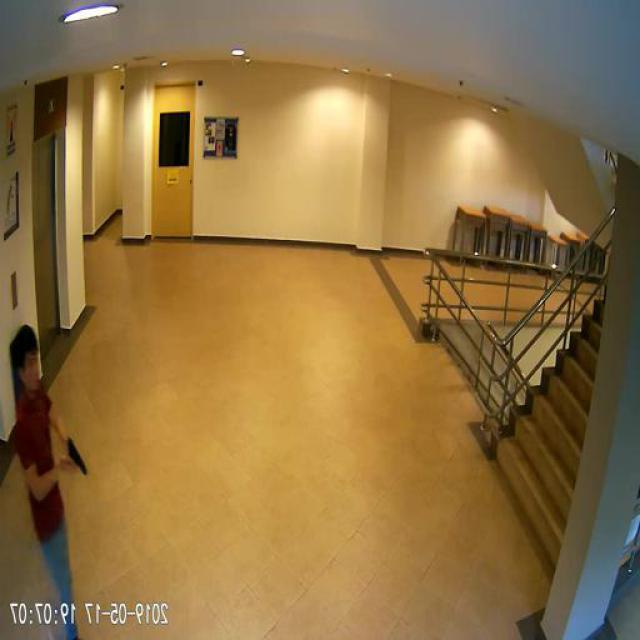Gun: (68, 435, 88, 473)
